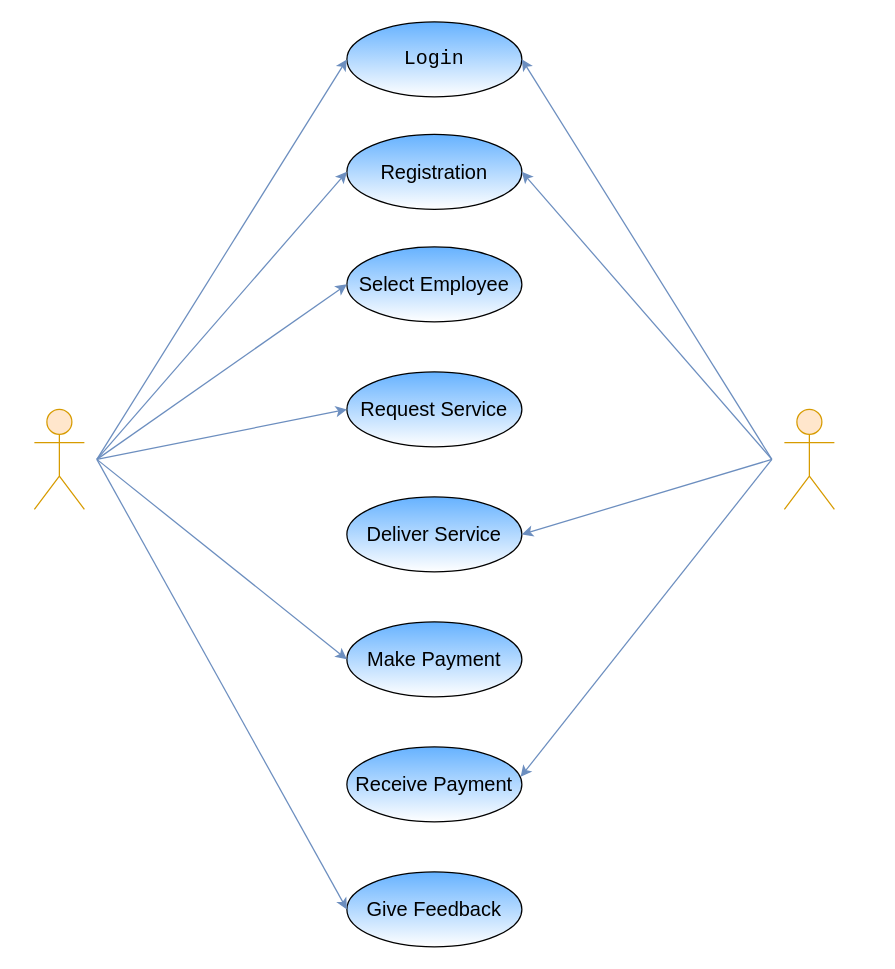
This 895x969 diagram has some shape labels left out. Here are the shapes that lost their labels. From the top down, the box of each, then its label:
(33, 408, 84, 509): Customer
(783, 408, 834, 509): Service Provider
